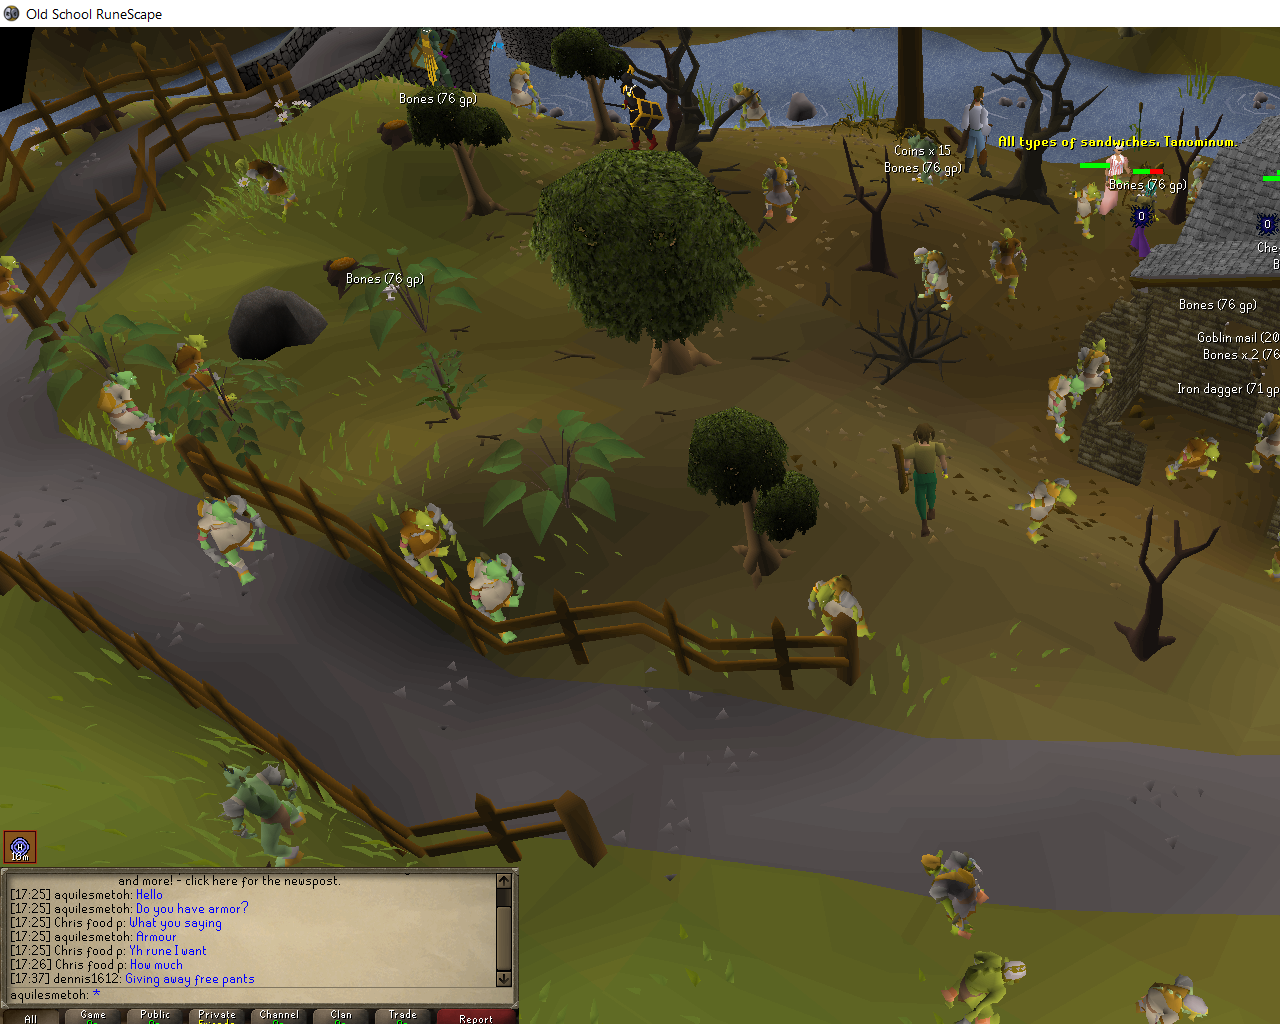Goblin: (211, 759, 315, 867), (193, 489, 289, 594), (453, 550, 543, 645), (913, 847, 996, 942), (389, 499, 470, 591), (159, 330, 250, 411), (98, 371, 179, 453), (944, 951, 1029, 1024), (805, 577, 891, 646), (1005, 474, 1084, 546), (232, 153, 309, 219), (1134, 967, 1219, 1024), (1038, 370, 1097, 447), (752, 156, 816, 227), (981, 225, 1040, 300), (910, 245, 965, 317), (1162, 430, 1226, 488), (1, 254, 47, 329), (1071, 334, 1118, 402), (505, 60, 549, 122), (1243, 410, 1280, 480), (727, 82, 770, 132)
